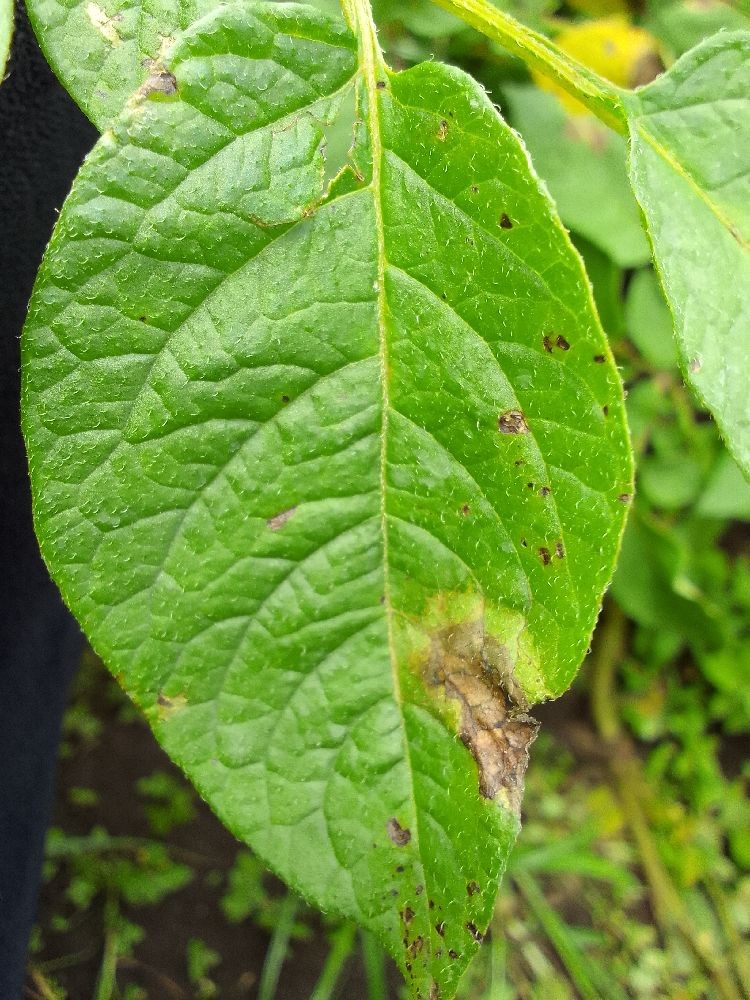late_blight: (398, 601, 683, 999), (691, 705, 750, 813), (320, 928, 376, 1000)
